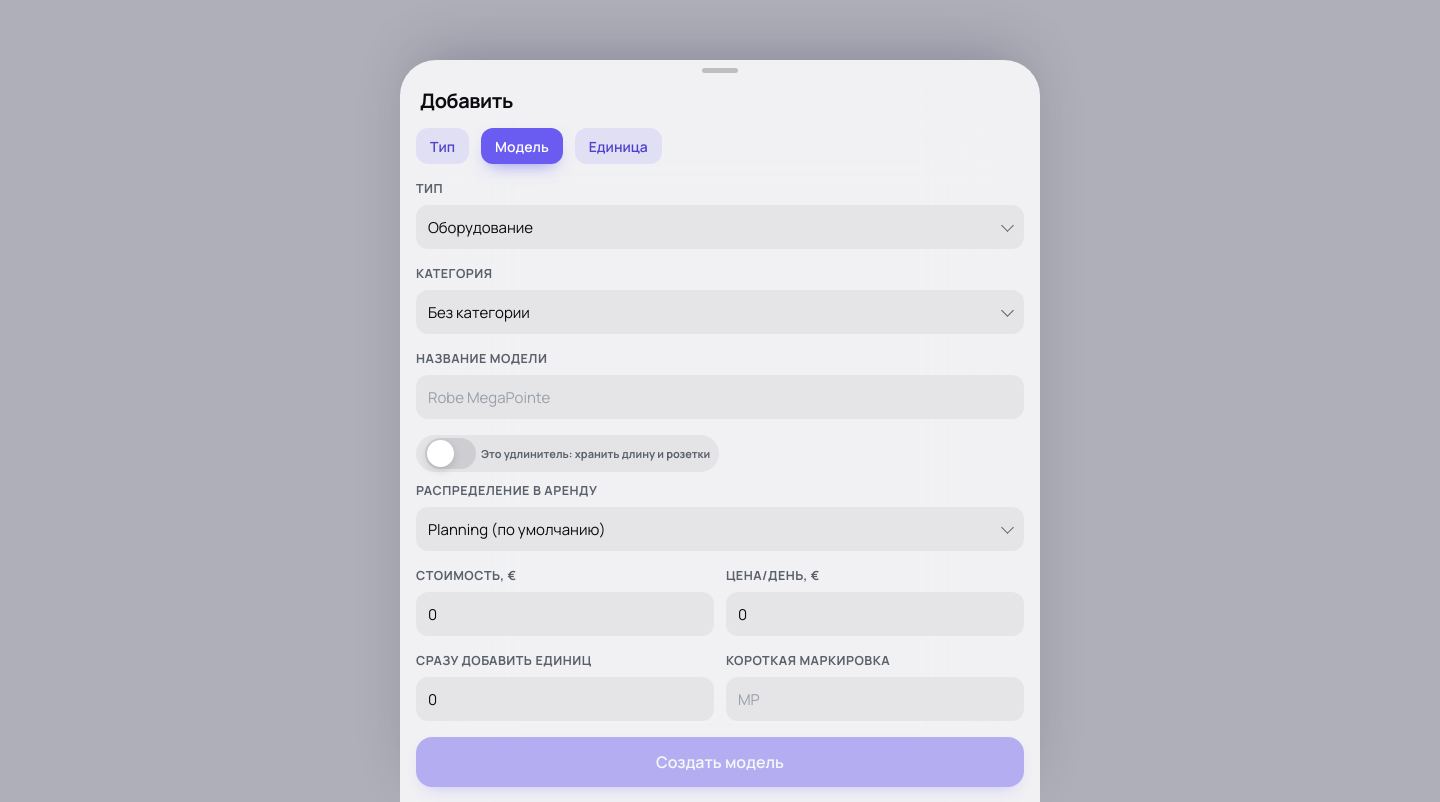
Test: creating a model with a saved auto-name template › does not invent Schuko connectors when they are absent from settings
This screenshot has width=1440, height=802.
Click the checkbox labelled "Это удлинитель: хранить длину и розетки". click: point(450, 454)
box: top-left (425, 438), bottom-right (476, 469)
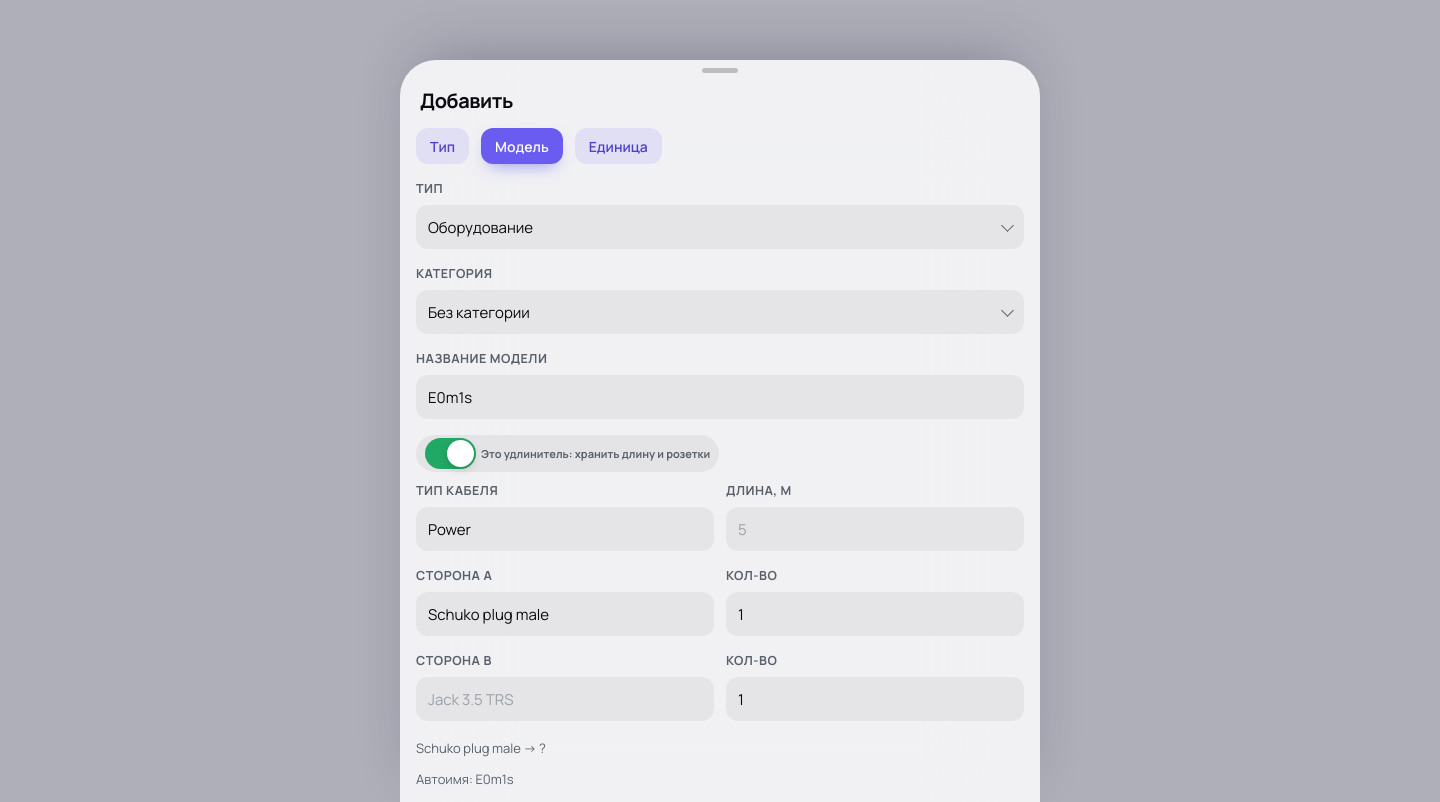
Result: the field labelled "Сторона A" holds "Schuko plug male" at top-left (416, 592), bottom-right (714, 636)
Result: the field labelled "Сторона B" is empty at top-left (416, 677), bottom-right (714, 721)
